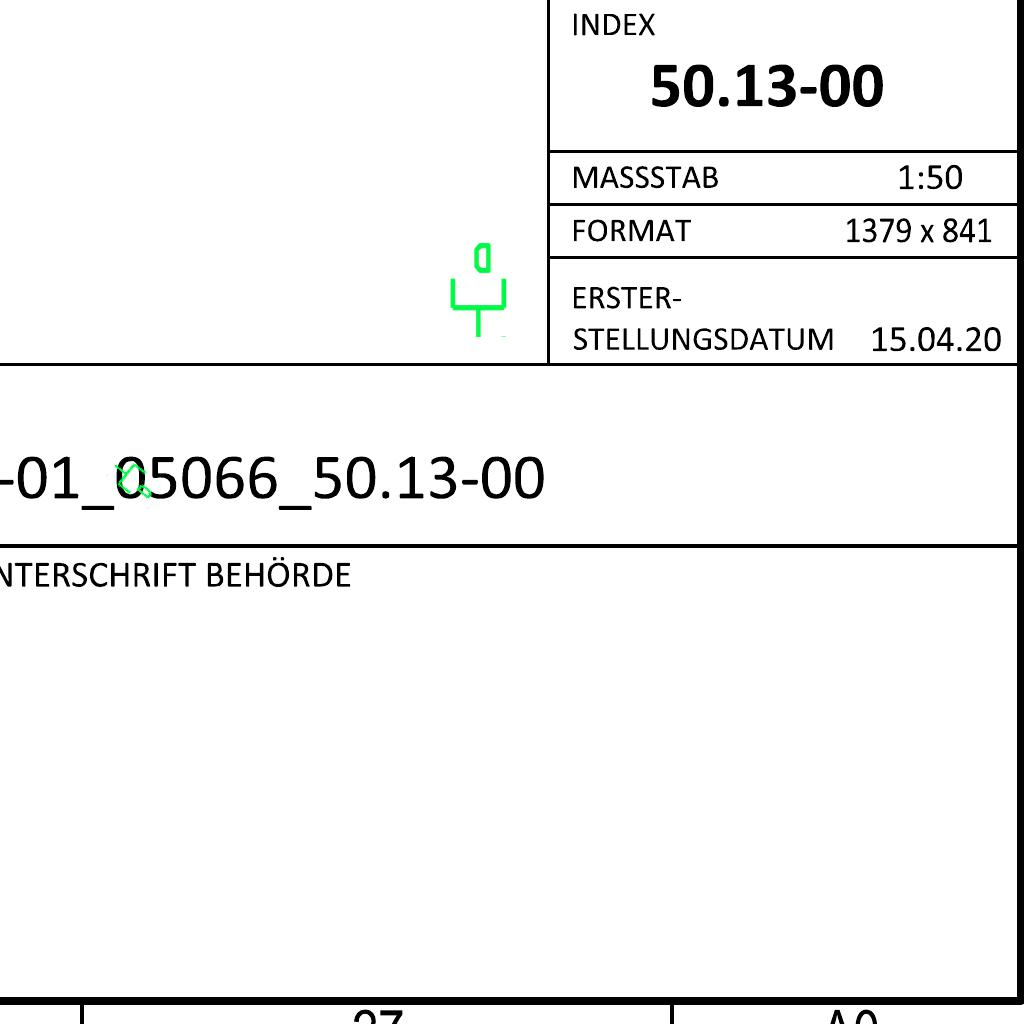Datenanschluss_einfach: (442, 240, 511, 340), (103, 450, 165, 508)
